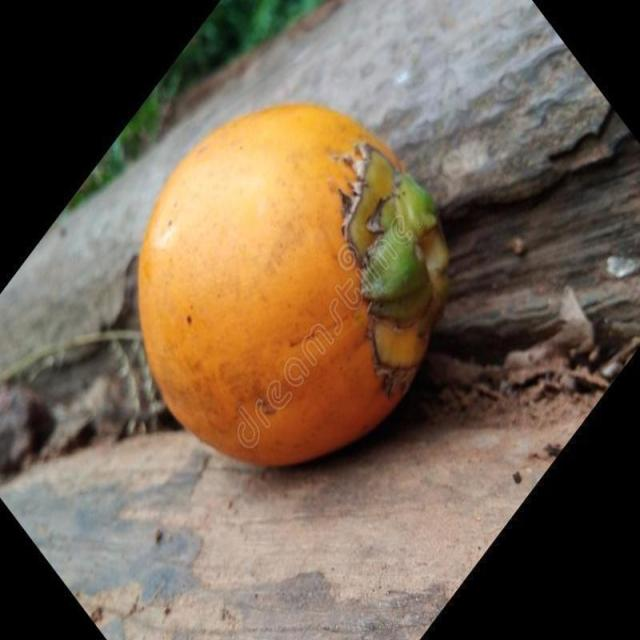good: (136, 102, 450, 470)
